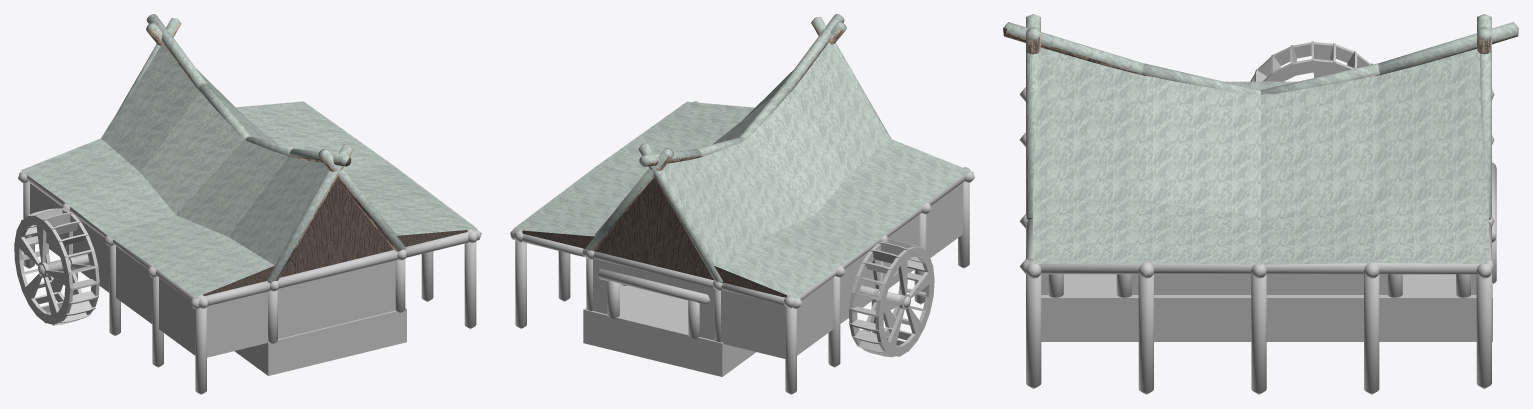
Rendered from WaterMillhouse5.fbx.
3 renders of one model, left to right at view 1: azimuth 30°, elevation 25°; view 2: azimuth 150°, elevation 25°; view 3: azimuth 270°, elevation 25°, orthographic. The views are drawn at different scales.
Visible parts, largest first — view 1: WaterMillTop, WaterMillBottom, WaterMillWheel; view 2: WaterMillTop, WaterMillBottom, WaterMillWheel; view 3: WaterMillTop, WaterMillBottom, WaterMillWheel.
Boxes of the visible parts, x1,y1,x2,y2 form: WaterMillTop: [20, 14, 476, 297]; WaterMillBottom: [18, 172, 481, 394]; WaterMillWheel: [14, 208, 99, 325]; WaterMillTop: [513, 14, 970, 298]; WaterMillBottom: [510, 101, 974, 394]; WaterMillWheel: [849, 239, 934, 357]; WaterMillTop: [1003, 14, 1518, 264]; WaterMillBottom: [1019, 87, 1496, 394]; WaterMillWheel: [1250, 41, 1372, 81].
Size of the model in its own units: 3878 by 2431 by 3952.
